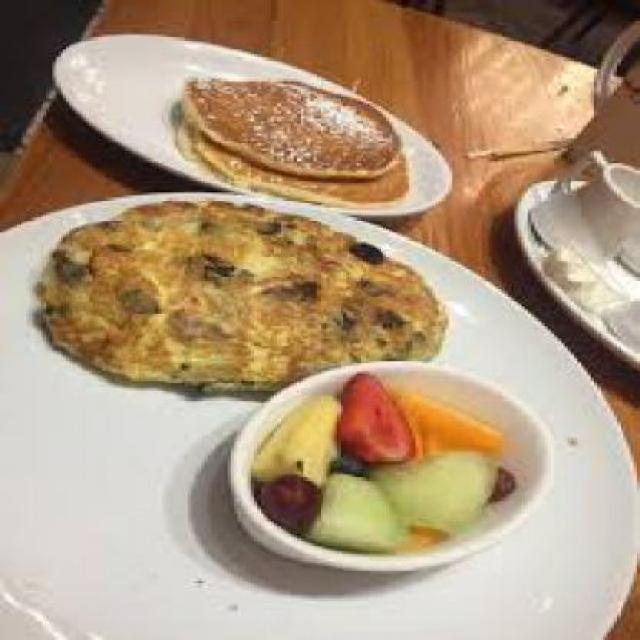omelette: (30, 192, 472, 391)
pancakes: (175, 68, 416, 205)
